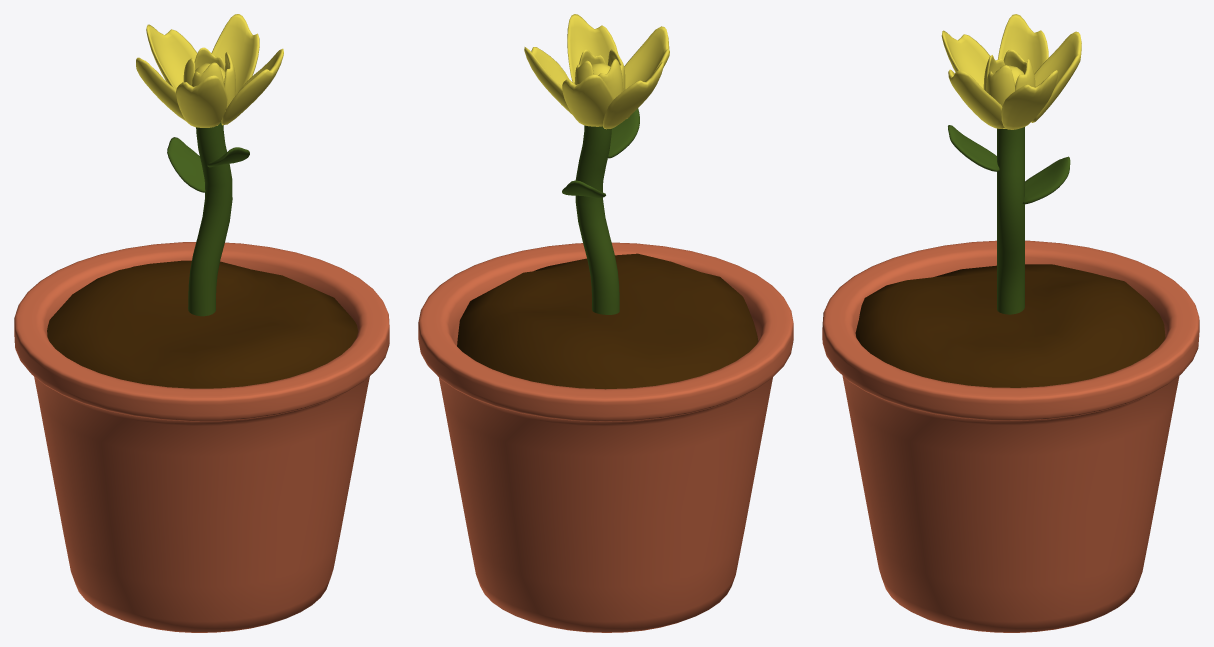
File: flor_dorada.fbx
The picture shows the model from 3 angles, left to right: view 1: azimuth 30°, elevation 25°; view 2: azimuth 150°, elevation 25°; view 3: azimuth 270°, elevation 25°; orthographic projection.
Visible parts, largest first — view 1: maceta.002; view 2: maceta.002; view 3: maceta.002.
Part boxes in pixels (bbox=[...]): maceta.002: bbox=[14, 14, 389, 632]; maceta.002: bbox=[418, 14, 793, 632]; maceta.002: bbox=[822, 14, 1199, 632].
Bounding box in the file's own units: 56.43 × 89.15 × 56.43.
